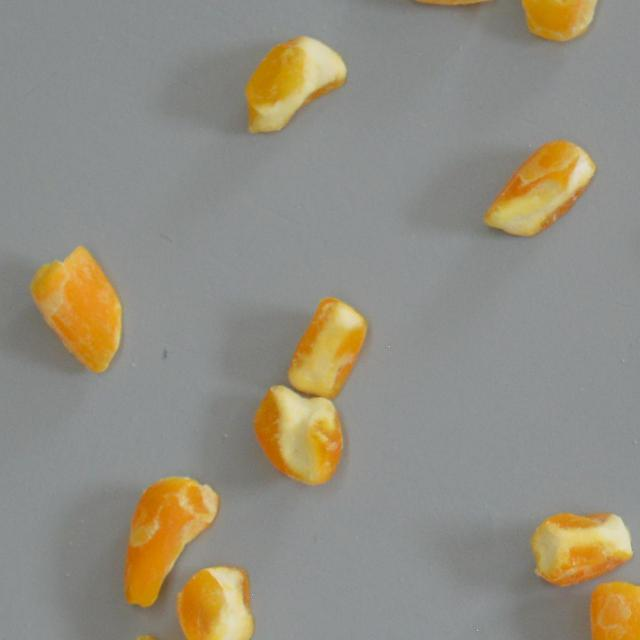estandar: (240, 31, 347, 136), (252, 382, 345, 488), (285, 294, 370, 400)
pelicula: (19, 244, 128, 382), (116, 472, 216, 608), (480, 140, 598, 240), (526, 506, 635, 597), (173, 560, 256, 640), (506, 0, 606, 54), (572, 581, 640, 640), (390, 0, 498, 26)
